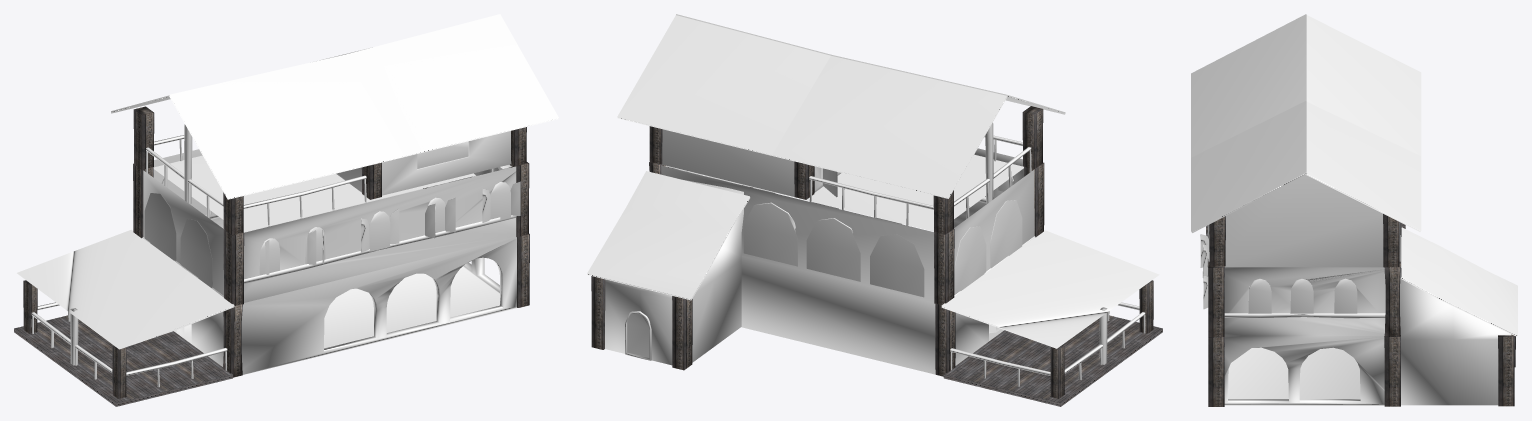
The model's file is tavern_main_LOD1.fbx.
The picture shows the model from 3 angles, left to right: view 1: azimuth 30°, elevation 25°; view 2: azimuth 150°, elevation 25°; view 3: azimuth 270°, elevation 25°; orthographic projection. The views are drawn at different scales.
Parts seen in each view (by area): view 1: Default_Layer; view 2: Default_Layer; view 3: Default_Layer.
Part boxes in pixels (x1=…): Default_Layer: x1=14, y1=14, x2=558, y2=406; Default_Layer: x1=587, y1=14, x2=1162, y2=406; Default_Layer: x1=1191, y1=14, x2=1517, y2=406.
Bounding box in the file's own units: 3391 × 1875 × 2250.
Materials: 6 (1 with a texture image).
